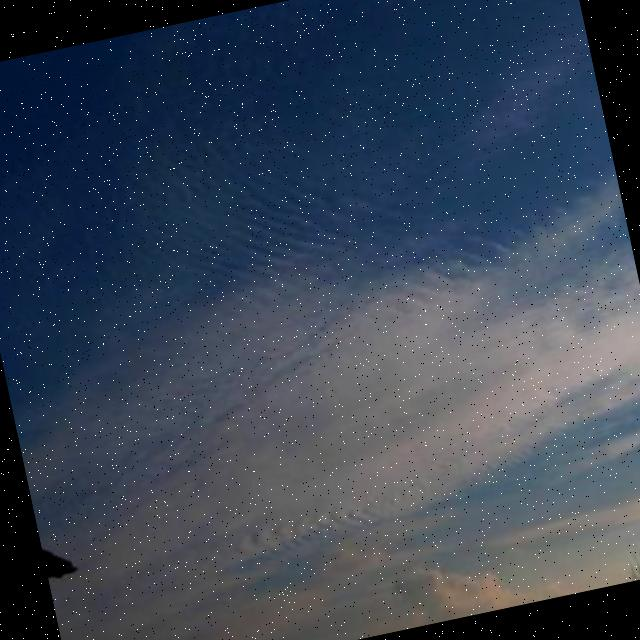Cc: (45, 102, 640, 608)
